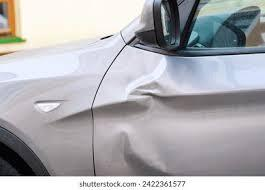dent: (119, 58, 179, 118), (108, 126, 171, 181)
